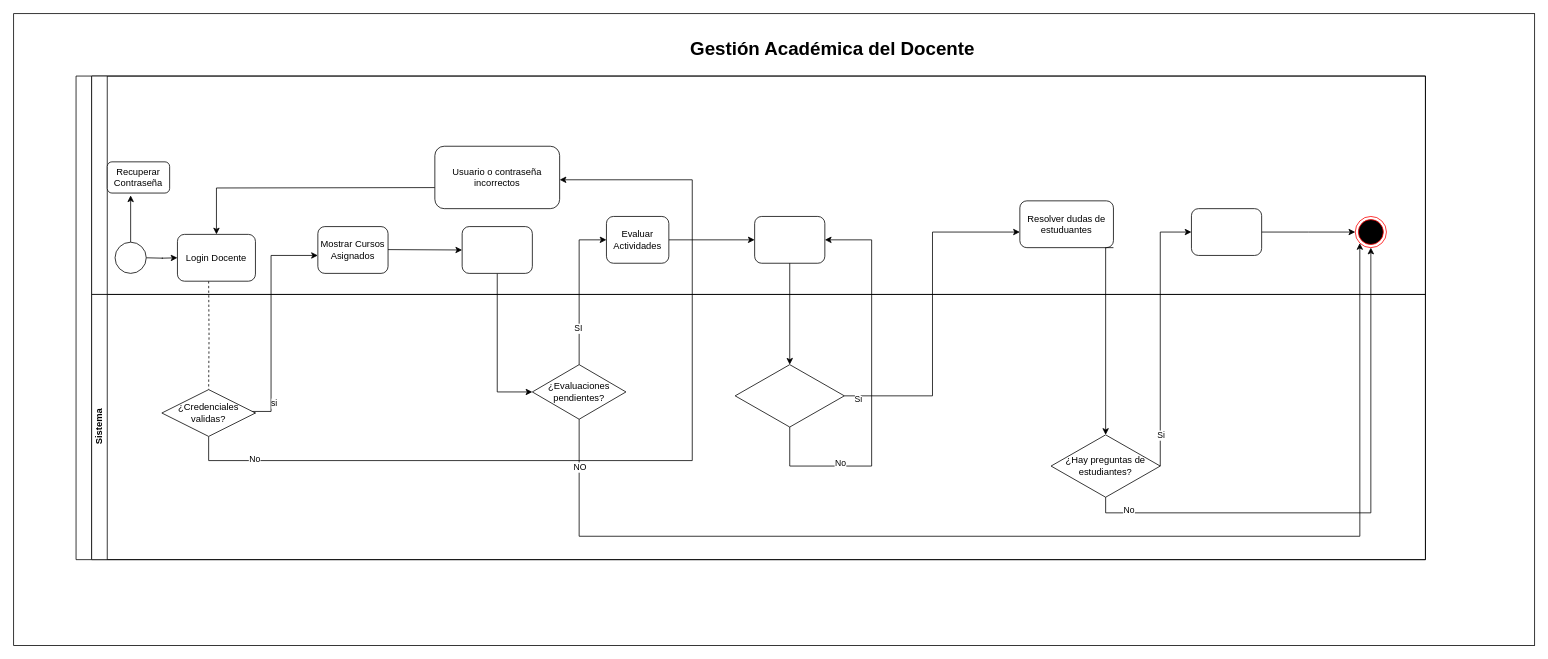
Image size: 1548x659. Some labels were removed from this diagram. Here are the shapes that lost their labels. From the top down, the box of each, then its label:
(91, 75, 1425, 294): Profesor
(461, 226, 532, 273): Seleccionar Curso
(754, 216, 825, 263): Registrar Notas
(1191, 208, 1262, 255): Responder preguntas
(734, 364, 844, 427): ¿Notas guardadas con exito?
